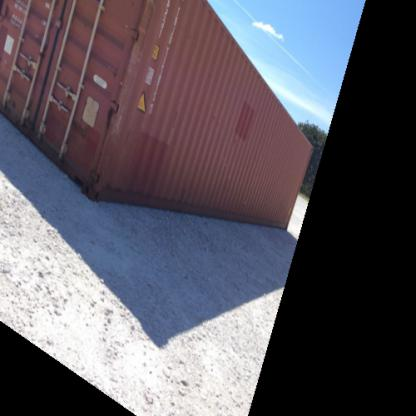Damage: (98, 88, 127, 177), (122, 1, 152, 86)
